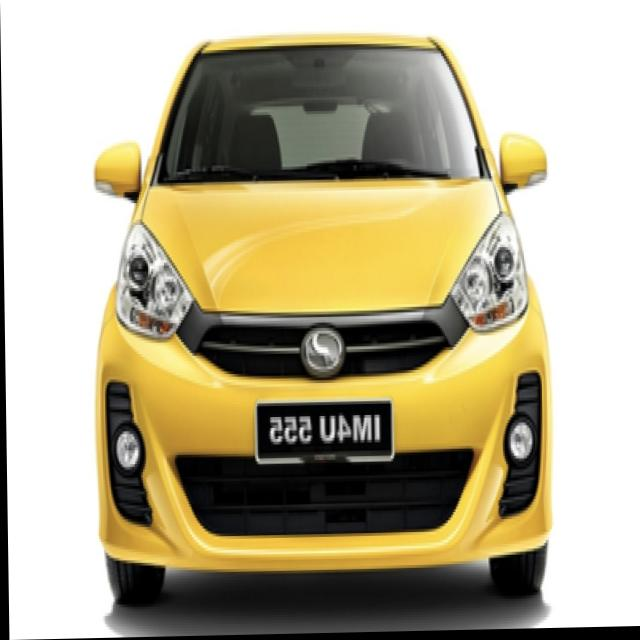licence: (253, 400, 391, 462)
